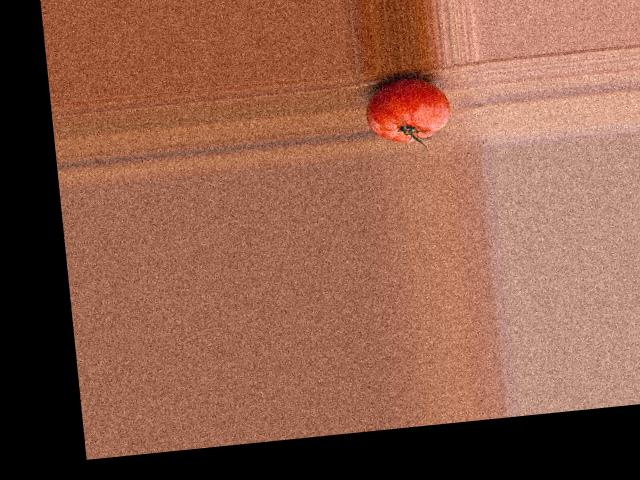tomato: (363, 73, 454, 145)
